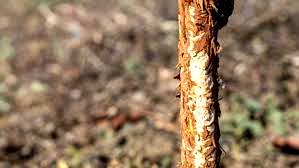Mammals Attack: (180, 45, 221, 168)
